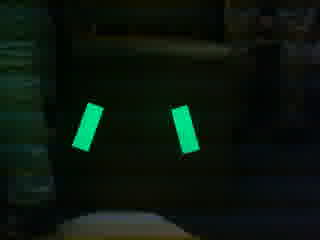target: (70, 101, 201, 156)
